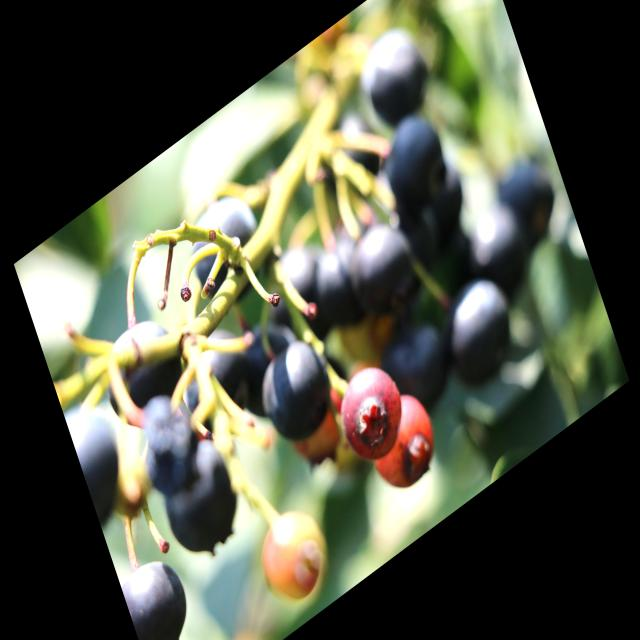blueberry: (158, 436, 251, 574), (96, 302, 188, 432), (173, 314, 259, 445), (255, 328, 340, 455), (339, 200, 422, 327), (186, 187, 268, 306), (491, 133, 569, 256), (380, 302, 456, 420), (446, 268, 521, 386), (360, 19, 437, 131), (118, 540, 202, 640), (134, 390, 206, 498), (377, 105, 450, 211), (306, 225, 370, 339), (465, 187, 531, 296), (268, 242, 330, 344)
blueberry-halfripe: (328, 348, 414, 477), (360, 384, 448, 509), (253, 498, 336, 620)
